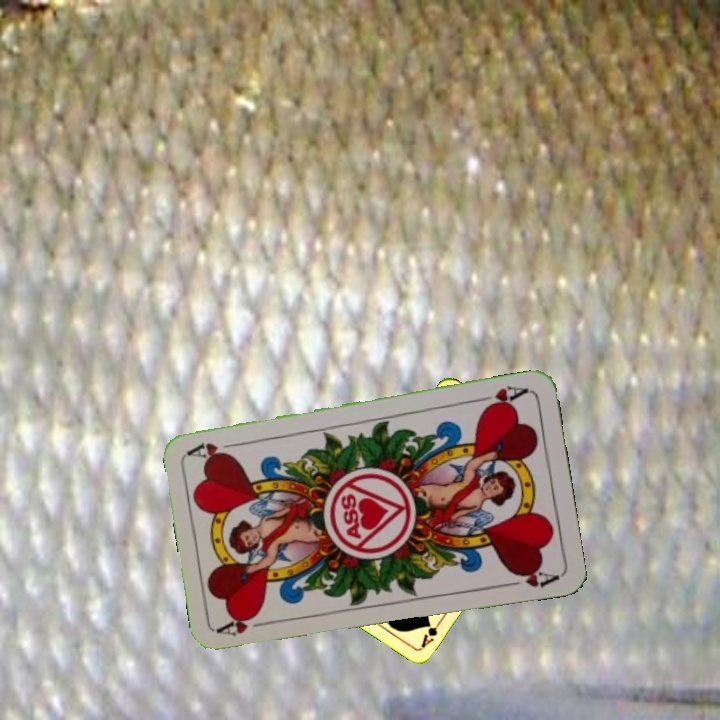GA: (417, 614, 445, 650)
HA: (472, 381, 531, 412), (215, 609, 274, 639)
